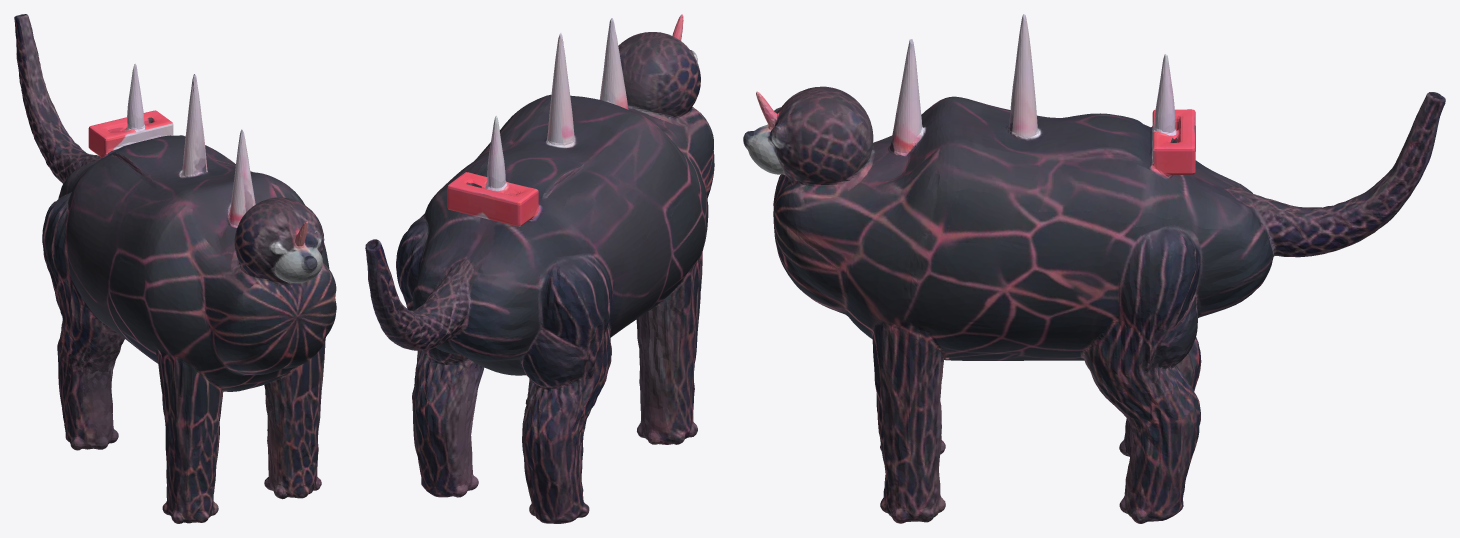
File: creature-121.glb
The picture shows the model from 3 angles, left to right: view 1: azimuth 30°, elevation 25°; view 2: azimuth 150°, elevation 25°; view 3: azimuth 270°, elevation 25°; orthographic projection. The views are drawn at different scales.
Visible parts, largest first — view 1: tmpi1z4hta2.ply; view 2: tmpi1z4hta2.ply; view 3: tmpi1z4hta2.ply.
Boxes of the visible parts, x1,y1,x2,y2 form: tmpi1z4hta2.ply: (14, 14, 336, 523); tmpi1z4hta2.ply: (365, 14, 714, 523); tmpi1z4hta2.ply: (743, 14, 1445, 523).
Bounding box in the file's own units: 0.739 × 1.48 × 1.99.
Materials: 1 (1 with a texture image).
